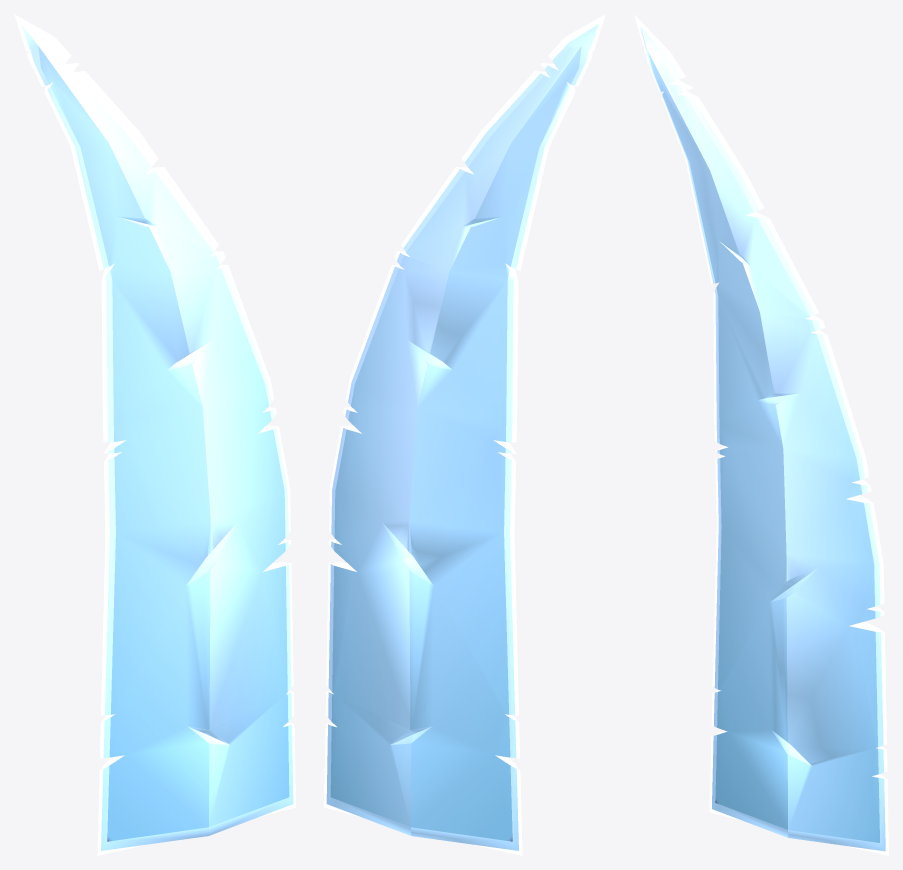
Rendered from steel_blade_scratched_062.glb.
The picture shows the model from 3 angles, left to right: view 1: azimuth 30°, elevation 25°; view 2: azimuth 150°, elevation 25°; view 3: azimuth 330°, elevation 25°; orthographic projection. The views are drawn at different scales.
Parts seen in each view (by area): view 1: steel_blade_scratched.062; view 2: steel_blade_scratched.062; view 3: steel_blade_scratched.062.
Boxes of the visible parts, left/top/right/bottom form: steel_blade_scratched.062: left=14, top=14, right=295, bottom=855; steel_blade_scratched.062: left=324, top=14, right=605, bottom=855; steel_blade_scratched.062: left=634, top=14, right=888, bottom=855.
Size of the model in its own units: 4.2 by 12.29 by 0.7262.
1 material, 1 textured.
